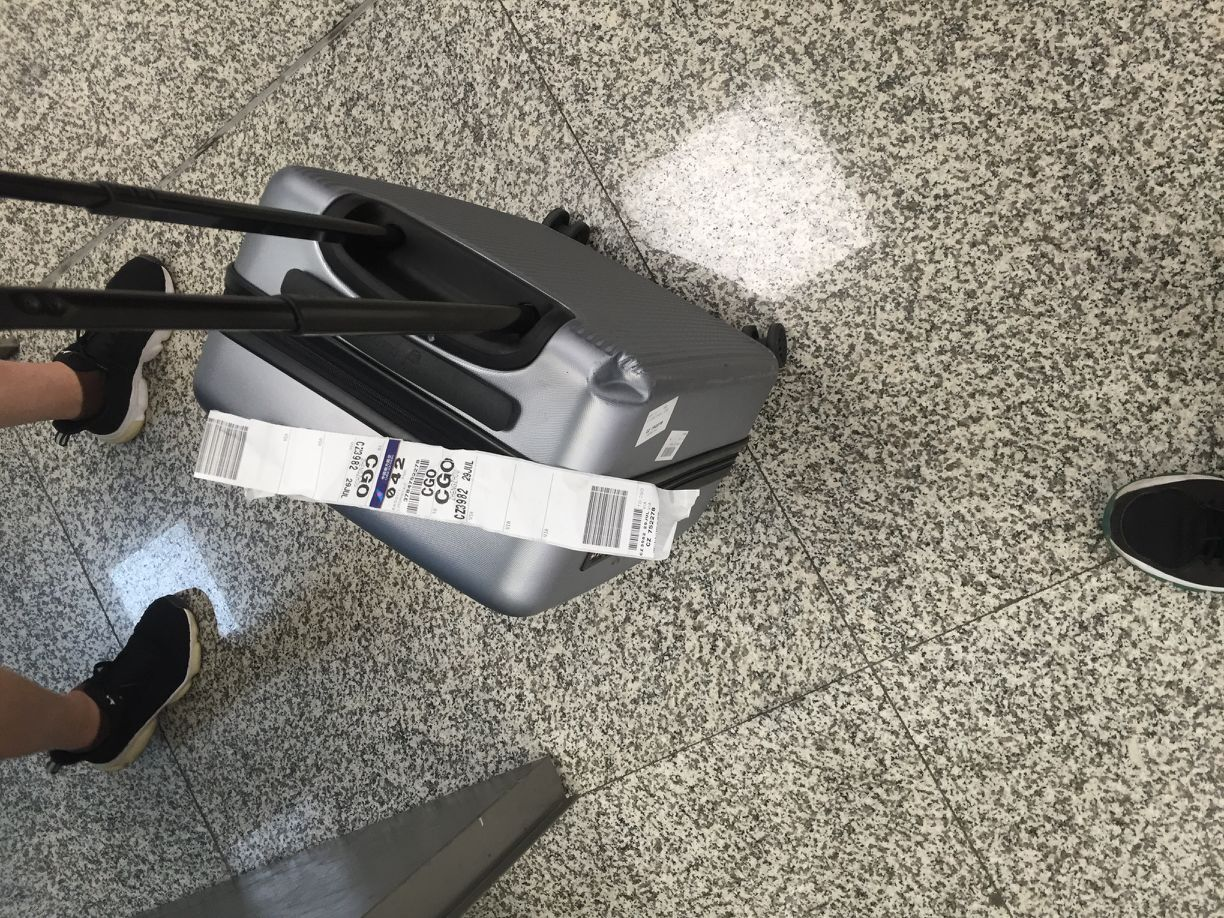rupture: (587, 351, 653, 405)
